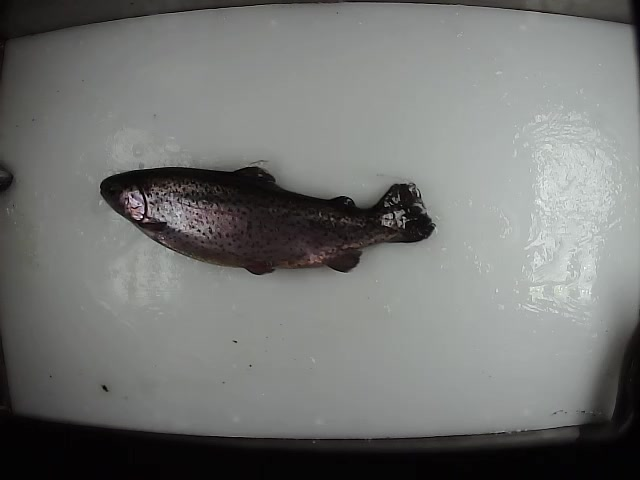fish: (98, 165, 439, 278)
